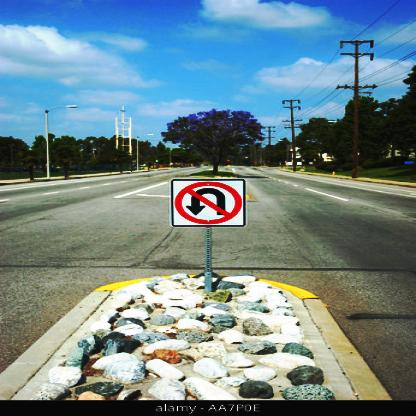No U-turn: (167, 179, 243, 224)
